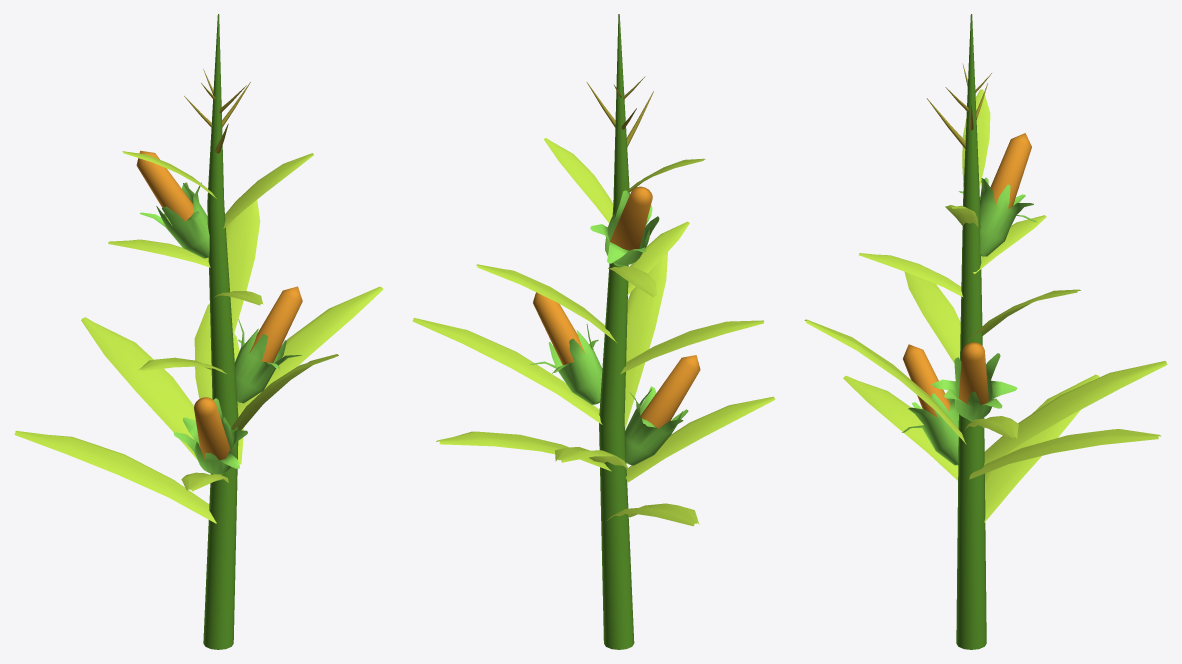
Rendered from CornPlant.FBX.
The picture shows the model from 3 angles, left to right: view 1: azimuth 30°, elevation 25°; view 2: azimuth 150°, elevation 25°; view 3: azimuth 270°, elevation 25°; orthographic projection.
Visible parts, largest first — view 1: CornPlant; view 2: CornPlant; view 3: CornPlant.
Boxes of the visible parts, x1,y1,x2,y2 form: CornPlant: [14, 14, 383, 649]; CornPlant: [412, 14, 775, 649]; CornPlant: [804, 14, 1167, 649].
Size of the model in its own units: 29.44 by 53.99 by 28.26.
